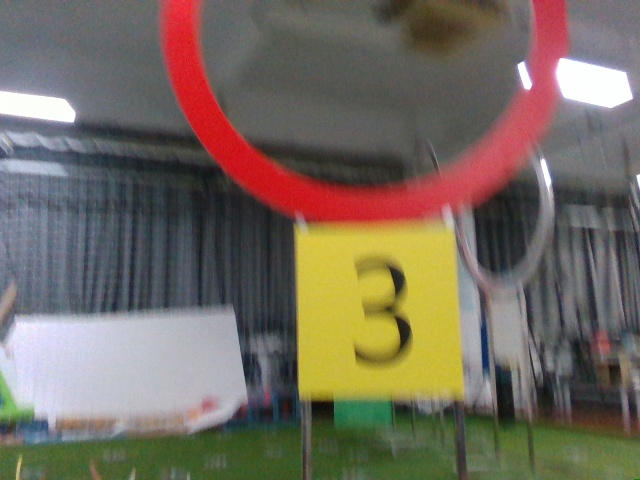target: (301, 232, 460, 395)
